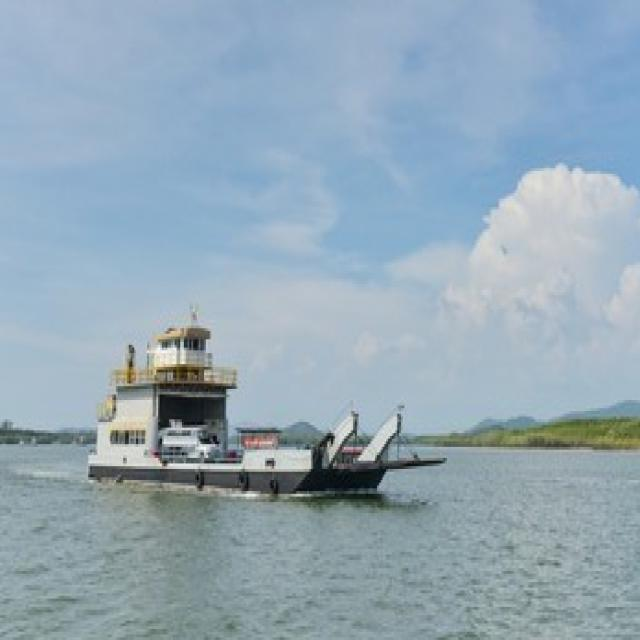fishing boat: (92, 295, 442, 497)
